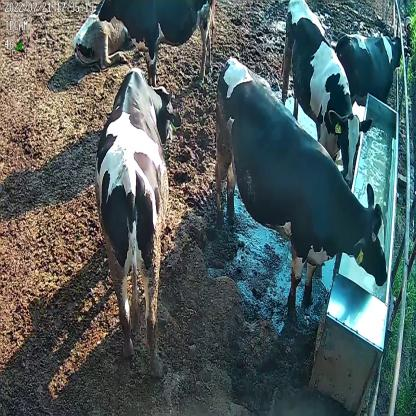cow: (214, 50, 388, 315), (95, 62, 175, 378), (283, 1, 373, 188), (98, 0, 216, 88), (332, 30, 404, 102)
